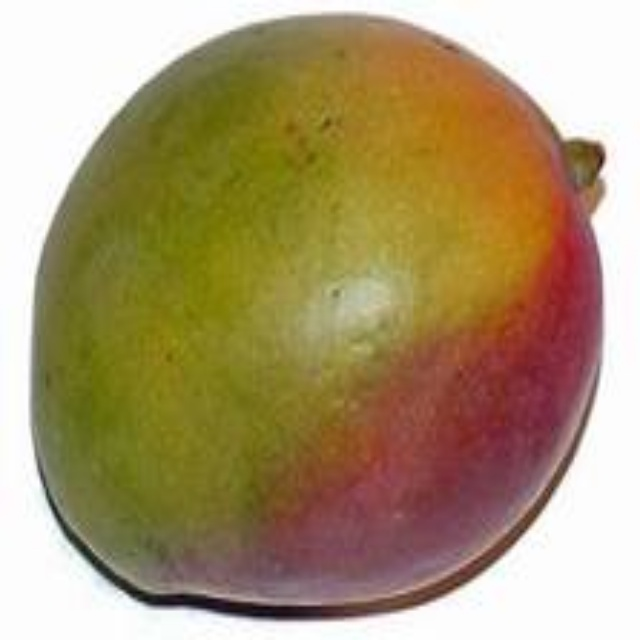mango: (28, 12, 601, 607)
